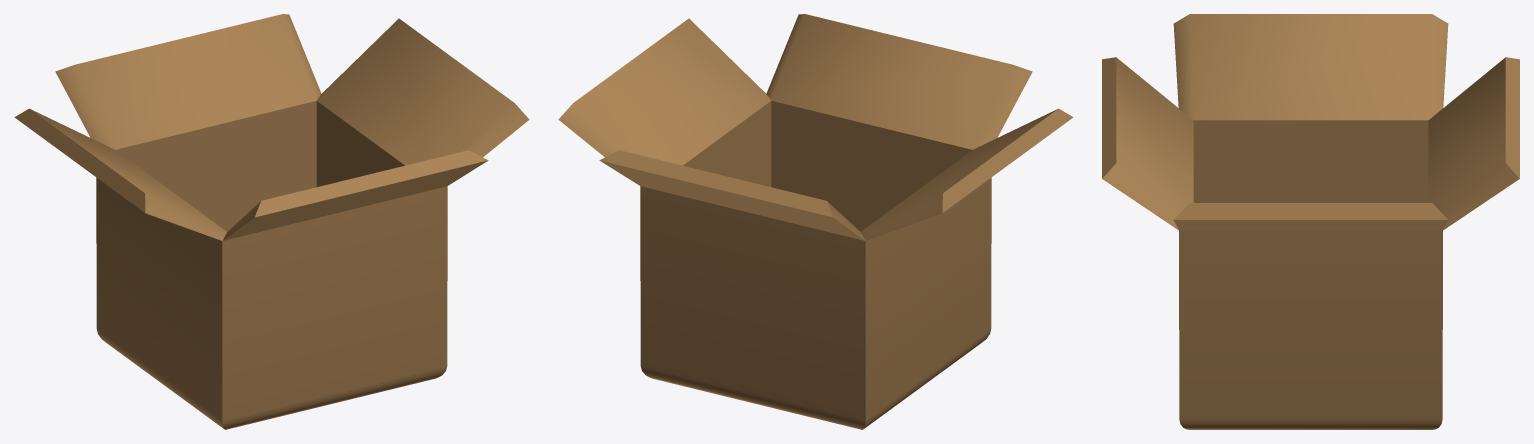
The picture shows the model from 3 angles, left to right: view 1: azimuth 30°, elevation 25°; view 2: azimuth 150°, elevation 25°; view 3: azimuth 270°, elevation 25°; orthographic projection. The views are drawn at different scales.
Visible parts, largest first — view 1: Box_2; view 2: Box_2; view 3: Box_2.
Part boxes in pixels (x1=…): Box_2: x1=14, y1=14, x2=529, y2=429; Box_2: x1=558, y1=14, x2=1073, y2=429; Box_2: x1=1102, y1=14, x2=1519, y2=429.
Size of the model in its own units: 0.3767 by 0.2422 by 0.3387.
